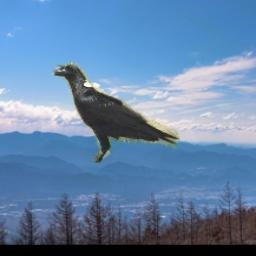Crow: (51, 63, 179, 165)
